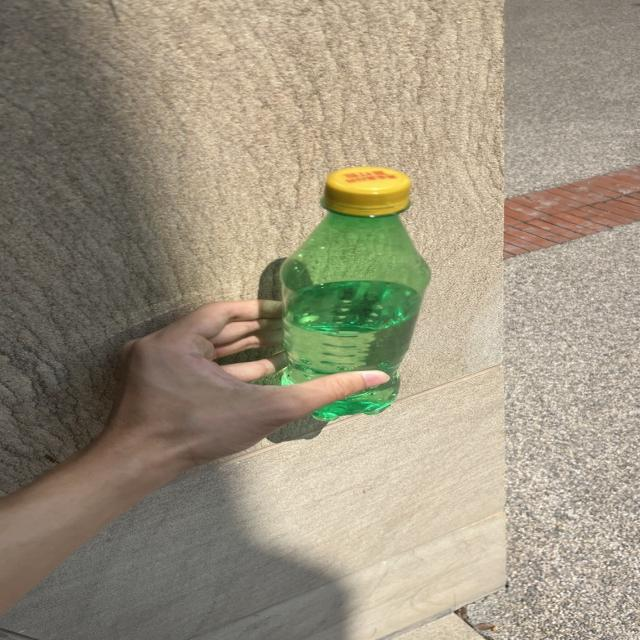medium: (281, 166, 430, 421)
